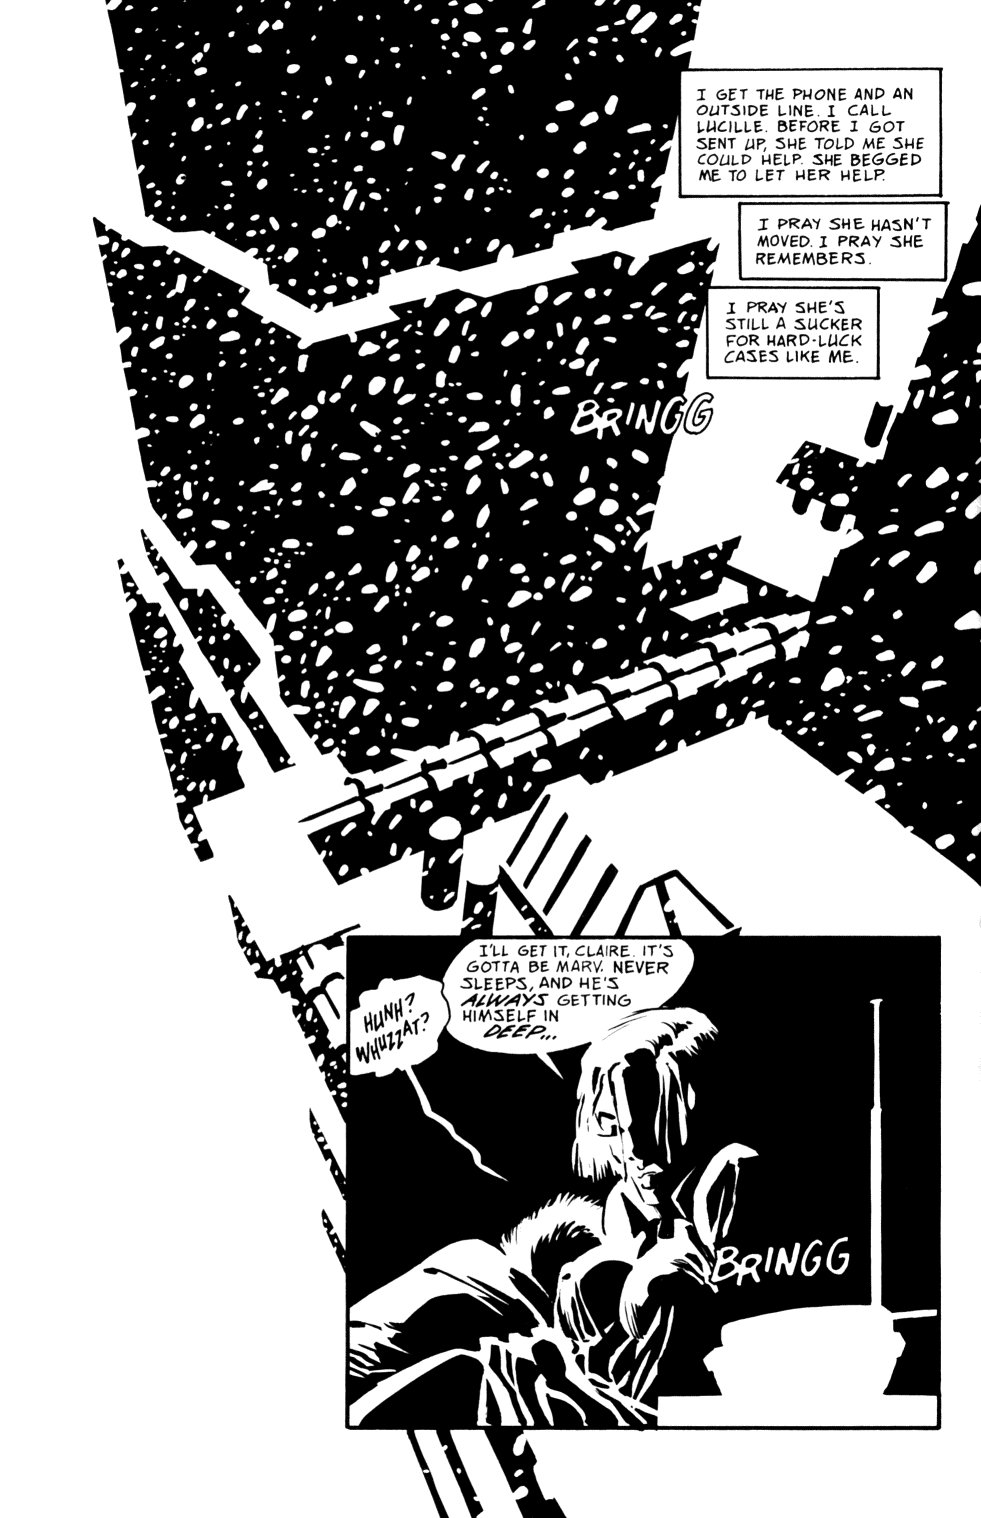Baloon: (431, 933, 703, 1068), (682, 70, 942, 194), (735, 205, 949, 284), (705, 289, 877, 379), (349, 973, 449, 1110)
Vignetta: (24, 1, 978, 1518), (349, 936, 938, 1429)
